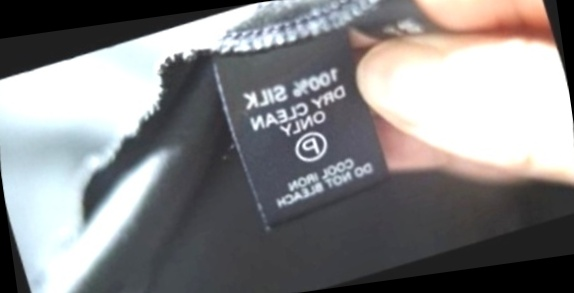dry_clean_any_solvent_except_trichloroethylene: (282, 120, 338, 173)
